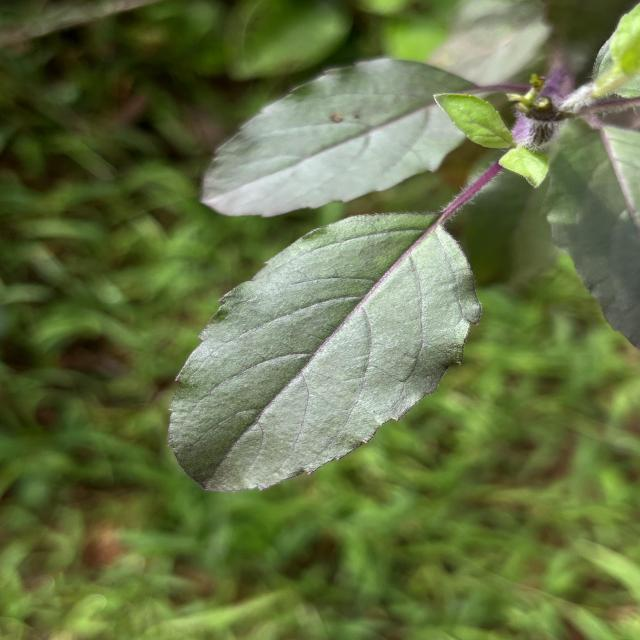Ocimum tenuiflorum: (160, 206, 488, 497)
